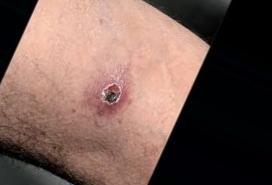Tick: (83, 64, 132, 114)
